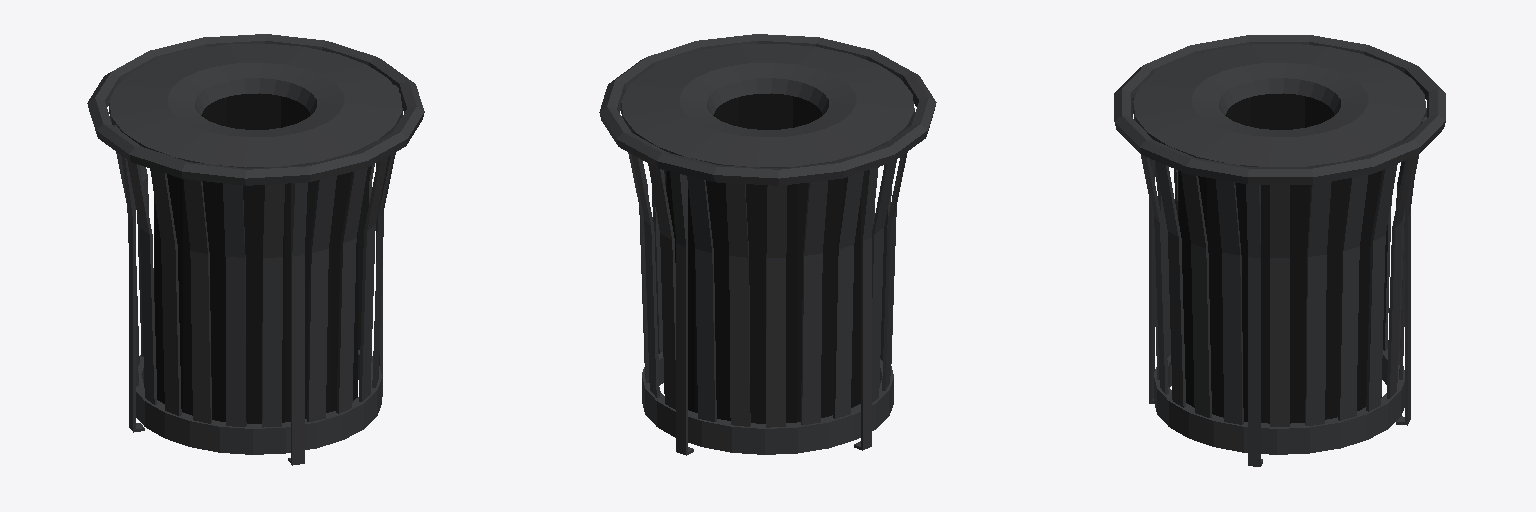
The picture shows the model from 3 angles: view 1: azimuth 30°, elevation 25°; view 2: azimuth 150°, elevation 25°; view 3: azimuth 270°, elevation 25°; orthographic projection.
Visible parts, largest first — view 1: mesh5_mesh5-geometry, mesh13_mesh13-geometry, mesh1_mesh1-geometry, mesh7_mesh7-geometry, mesh8_mesh8-geometry, mesh3_mesh3-geometry; view 2: mesh5_mesh5-geometry, mesh13_mesh13-geometry, mesh1_mesh1-geometry, mesh7_mesh7-geometry, mesh8_mesh8-geometry, mesh3_mesh3-geometry; view 3: mesh5_mesh5-geometry, mesh13_mesh13-geometry, mesh1_mesh1-geometry, mesh7_mesh7-geometry, mesh8_mesh8-geometry, mesh3_mesh3-geometry.
Part boxes in pixels (x1,y1,x2,y2): mesh5_mesh5-geometry: (116, 152, 395, 427); mesh13_mesh13-geometry: (109, 44, 402, 168); mesh1_mesh1-geometry: (154, 93, 357, 423); mesh7_mesh7-geometry: (87, 34, 424, 185); mesh8_mesh8-geometry: (136, 350, 381, 454); mesh3_mesh3-geometry: (113, 85, 398, 465); mesh5_mesh5-geometry: (628, 152, 907, 427); mesh13_mesh13-geometry: (621, 44, 914, 167); mesh1_mesh1-geometry: (666, 93, 860, 423); mesh7_mesh7-geometry: (599, 34, 936, 185); mesh8_mesh8-geometry: (642, 352, 893, 454); mesh3_mesh3-geometry: (664, 146, 881, 455); mesh5_mesh5-geometry: (1141, 155, 1418, 426); mesh13_mesh13-geometry: (1133, 44, 1426, 166); mesh1_mesh1-geometry: (1178, 93, 1381, 423); mesh7_mesh7-geometry: (1114, 35, 1445, 184); mesh8_mesh8-geometry: (1154, 349, 1404, 454); mesh3_mesh3-geometry: (1132, 93, 1426, 466).
Size of the model in its own units: 0.5601 by 0.5813 by 0.5601.
3 materials, 1 textured.